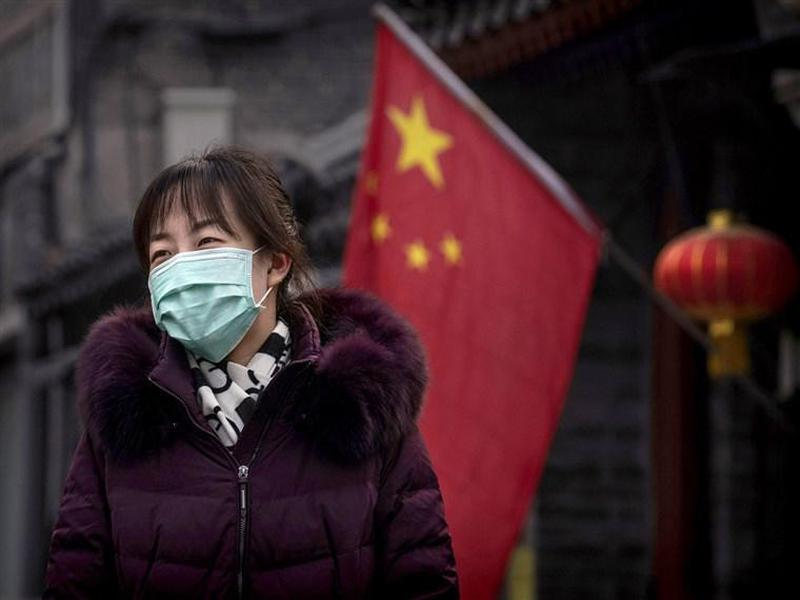with_mask: (133, 149, 305, 366)
